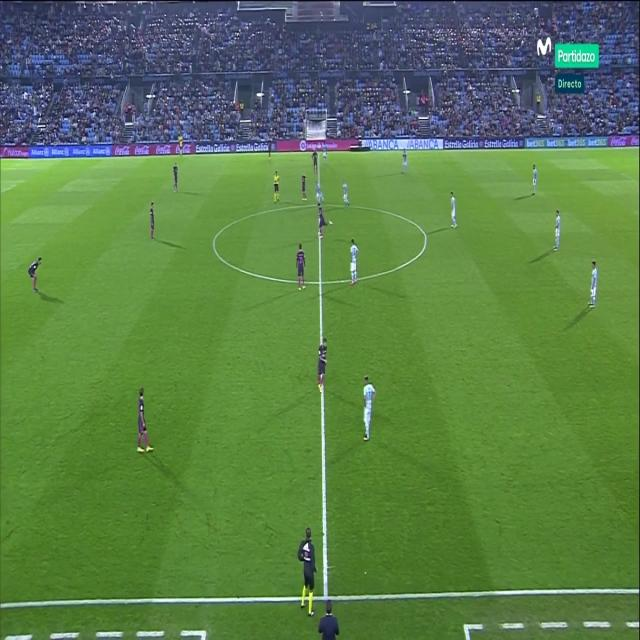Player: (136, 383, 154, 458), (362, 373, 376, 446), (315, 335, 329, 394), (586, 259, 600, 311), (27, 255, 43, 296), (317, 202, 333, 242), (295, 241, 307, 292), (350, 239, 360, 290), (553, 208, 562, 253), (449, 189, 458, 233), (148, 198, 156, 244), (340, 176, 351, 209), (170, 161, 180, 196), (299, 172, 309, 205), (530, 162, 539, 198), (316, 178, 326, 208), (310, 146, 319, 178), (400, 147, 410, 175), (321, 141, 329, 163)
Referee: (272, 169, 281, 205)
